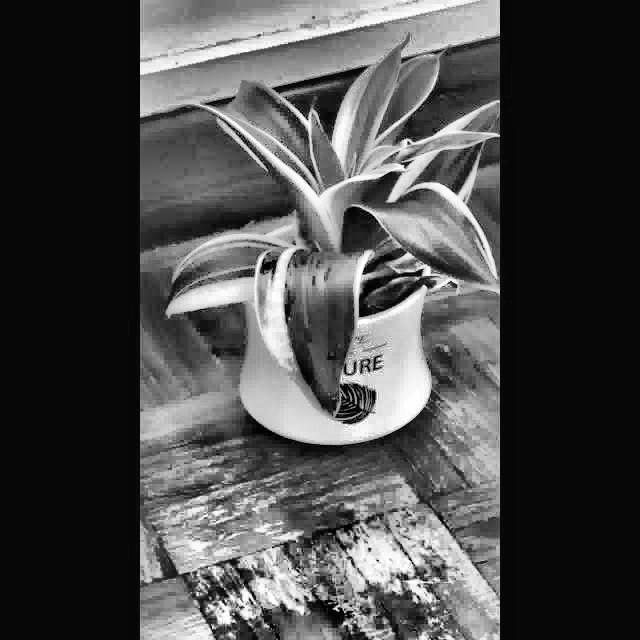plants: (155, 35, 500, 466)
